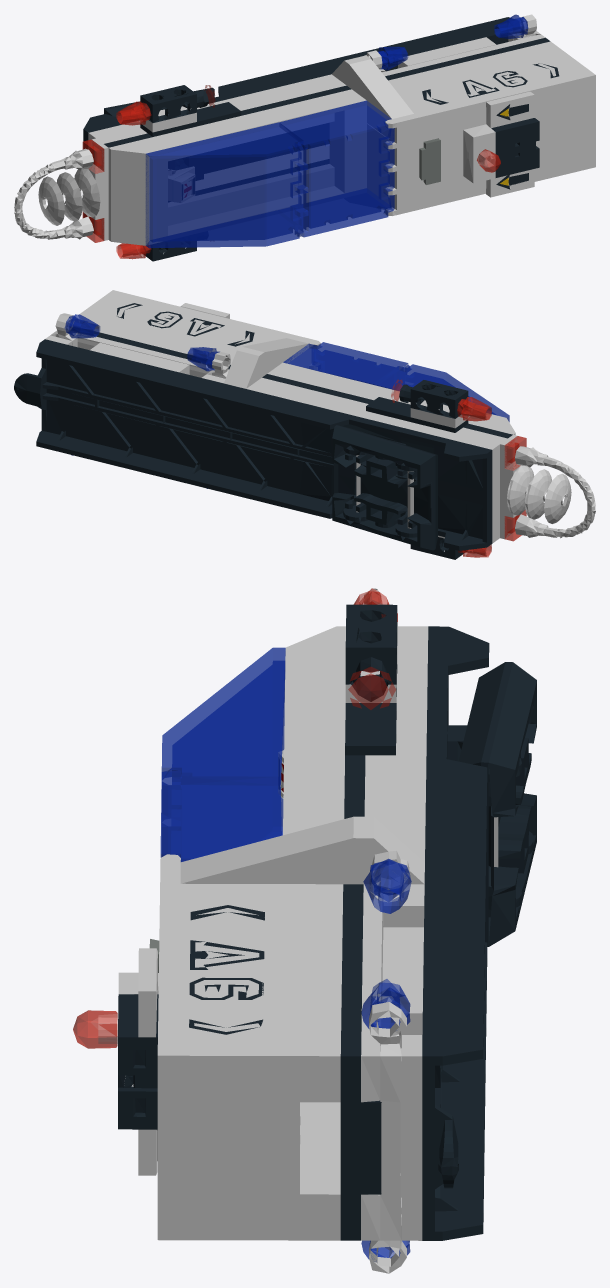
Rendered from rear-coach.glb.
The picture shows the model from 3 angles, top to bottom: view 1: azimuth 30°, elevation 25°; view 2: azimuth 150°, elevation 25°; view 3: azimuth 270°, elevation 25°; orthographic projection. The views are drawn at different scales.
Size of the model in its own units: 200 by 54.4 by 73.
